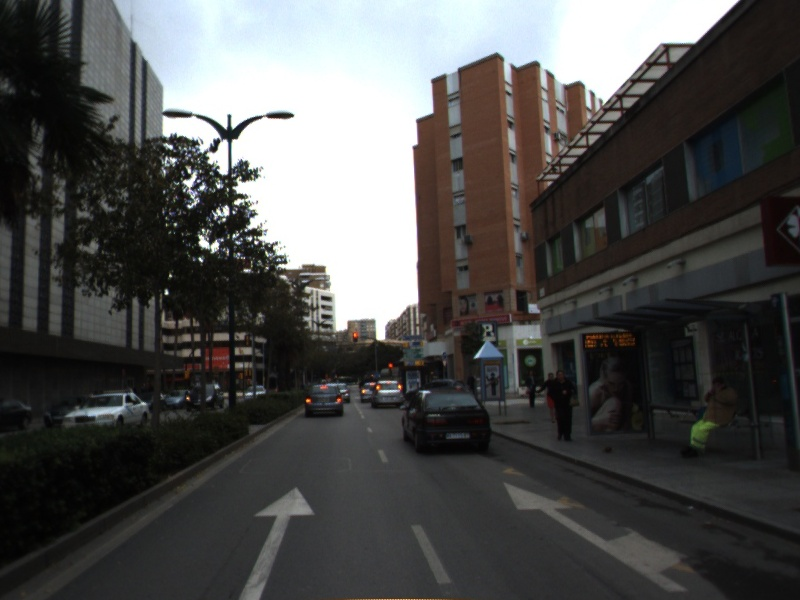STRAIGHT: (236, 484, 317, 600)
STRAIGHT_RIGHT: (501, 479, 690, 594)
